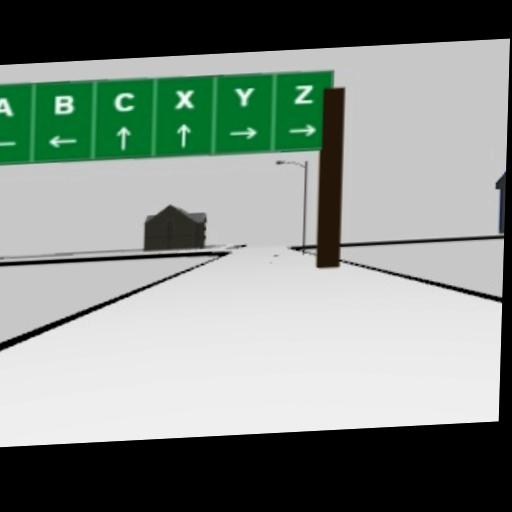A: (0, 94, 13, 115)
B: (53, 93, 75, 114)
C: (114, 90, 134, 111)
Left: (47, 132, 78, 147), (0, 135, 17, 149)
Right: (229, 125, 259, 139), (288, 122, 316, 136)
Straight: (175, 121, 191, 145), (114, 125, 130, 148)
X: (173, 87, 195, 108)
Y: (233, 86, 255, 107)
Z: (292, 83, 314, 104)
